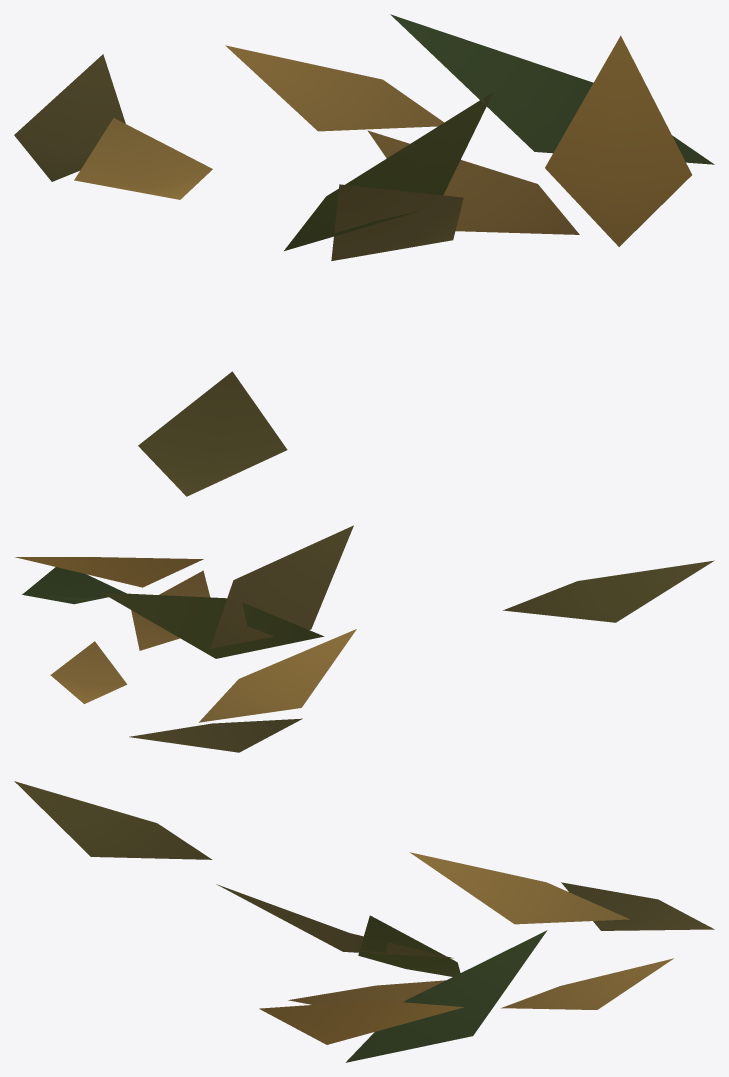
Rendered from litter-tropical-a.lod2.glb.
The picture shows the model from 3 angles, top to bottom: view 1: azimuth 30°, elevation 25°; view 2: azimuth 150°, elevation 25°; view 3: azimuth 270°, elevation 25°; orthographic projection. The views are drawn at different scales.
Bounding box in the file's own units: 1.82 × 0.2762 × 2.01.
